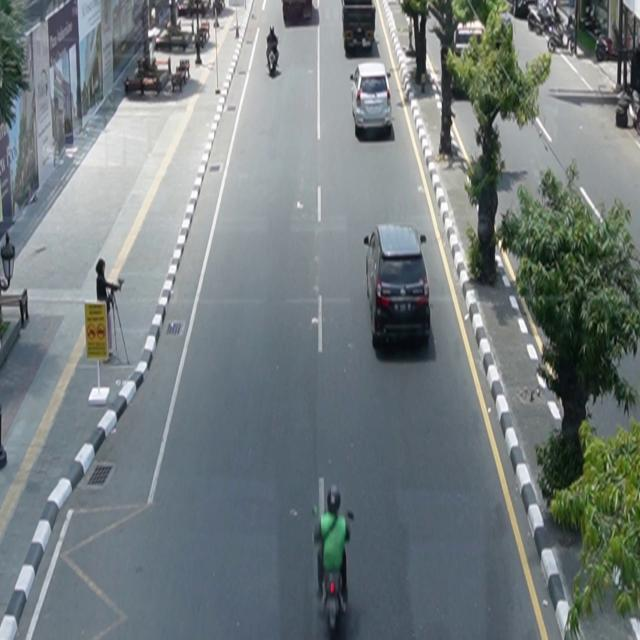car: (364, 224, 432, 349), (351, 62, 393, 136)
